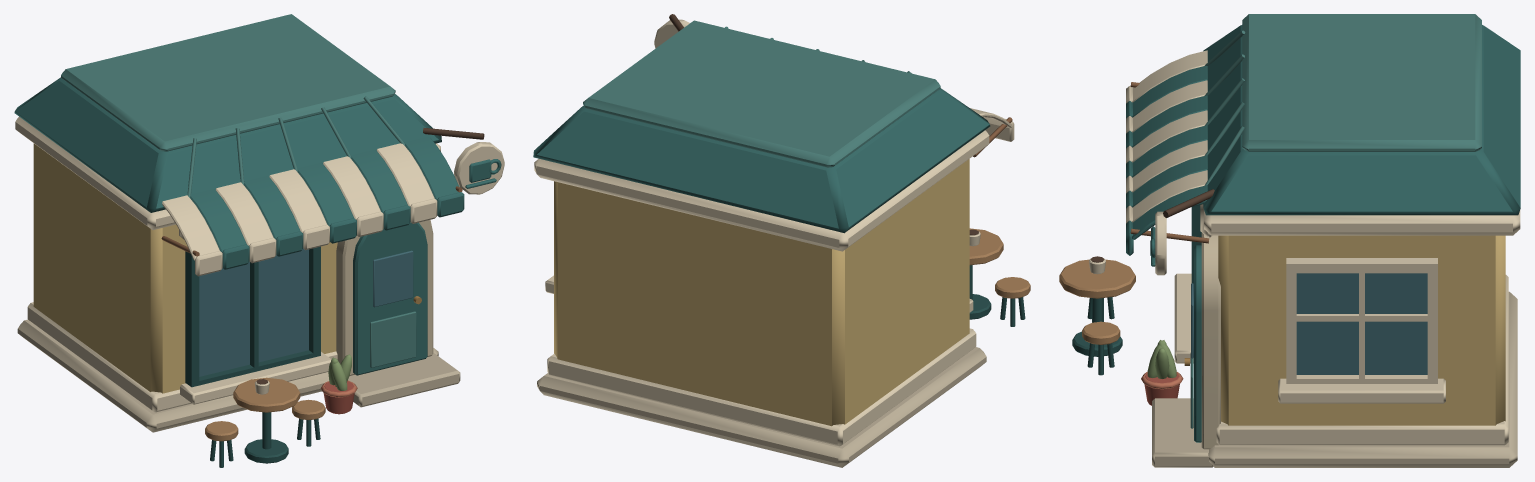
File: cafe_level_2.glb
3 views of the same model, side by side, from view 1: azimuth 30°, elevation 25°; view 2: azimuth 150°, elevation 25°; view 3: azimuth 270°, elevation 25° (orthographic). The views are drawn at different scales.
Visible parts, largest first — view 1: cafe_level_2_runtime; view 2: cafe_level_2_runtime; view 3: cafe_level_2_runtime.
Boxes of the visible parts, left/top/right/bottom form: cafe_level_2_runtime: left=14, top=14, right=504, bottom=467; cafe_level_2_runtime: left=533, top=14, right=1030, bottom=467; cafe_level_2_runtime: left=1059, top=14, right=1520, bottom=467.
Bounding box in the file's own units: 3.69 × 2.88 × 3.85.
